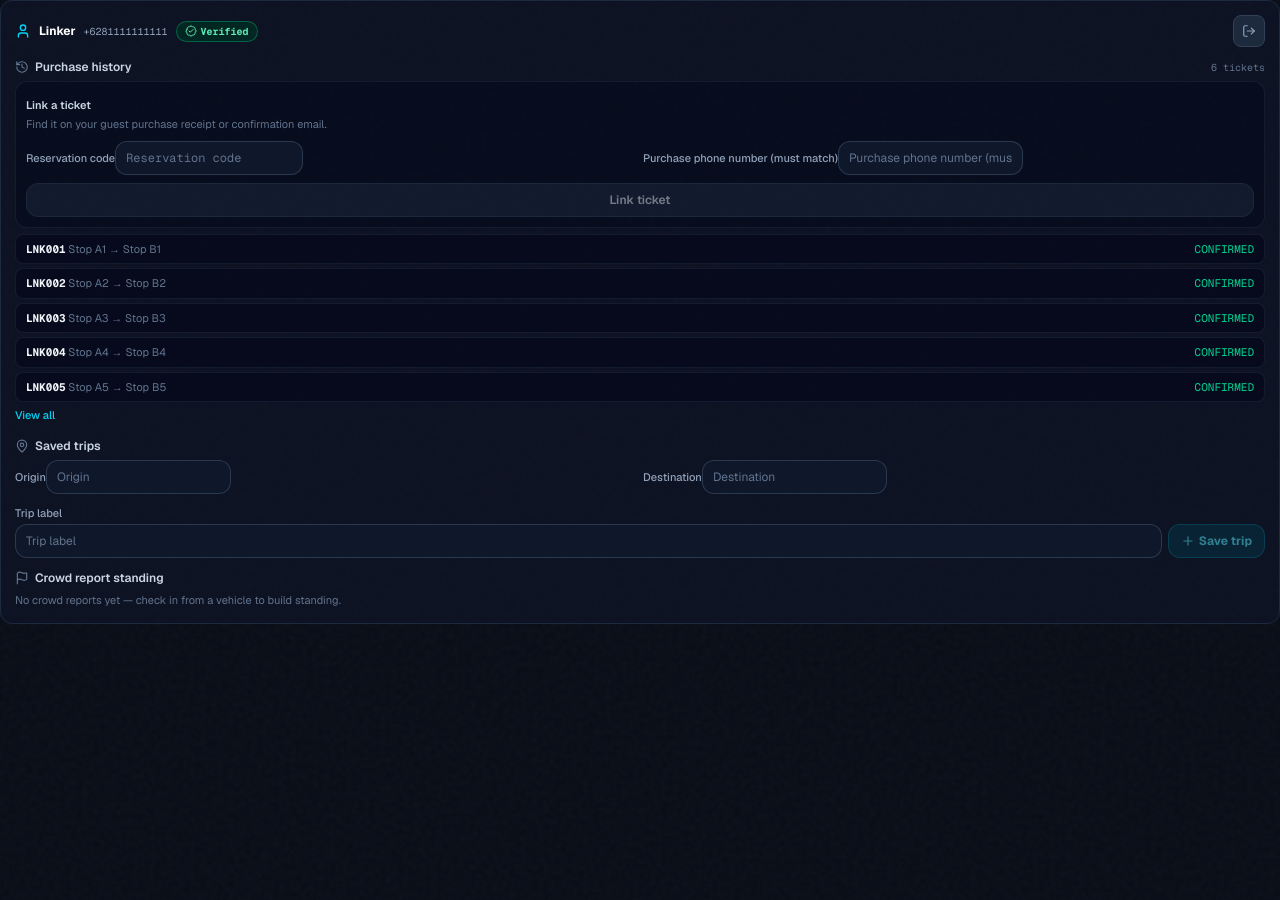
link a ticket › explains an unknown code without leaking
Type "NOPE01" into the field labelled "Reservation code" at (209, 158), box x1=115 y1=140 x2=303 y2=174
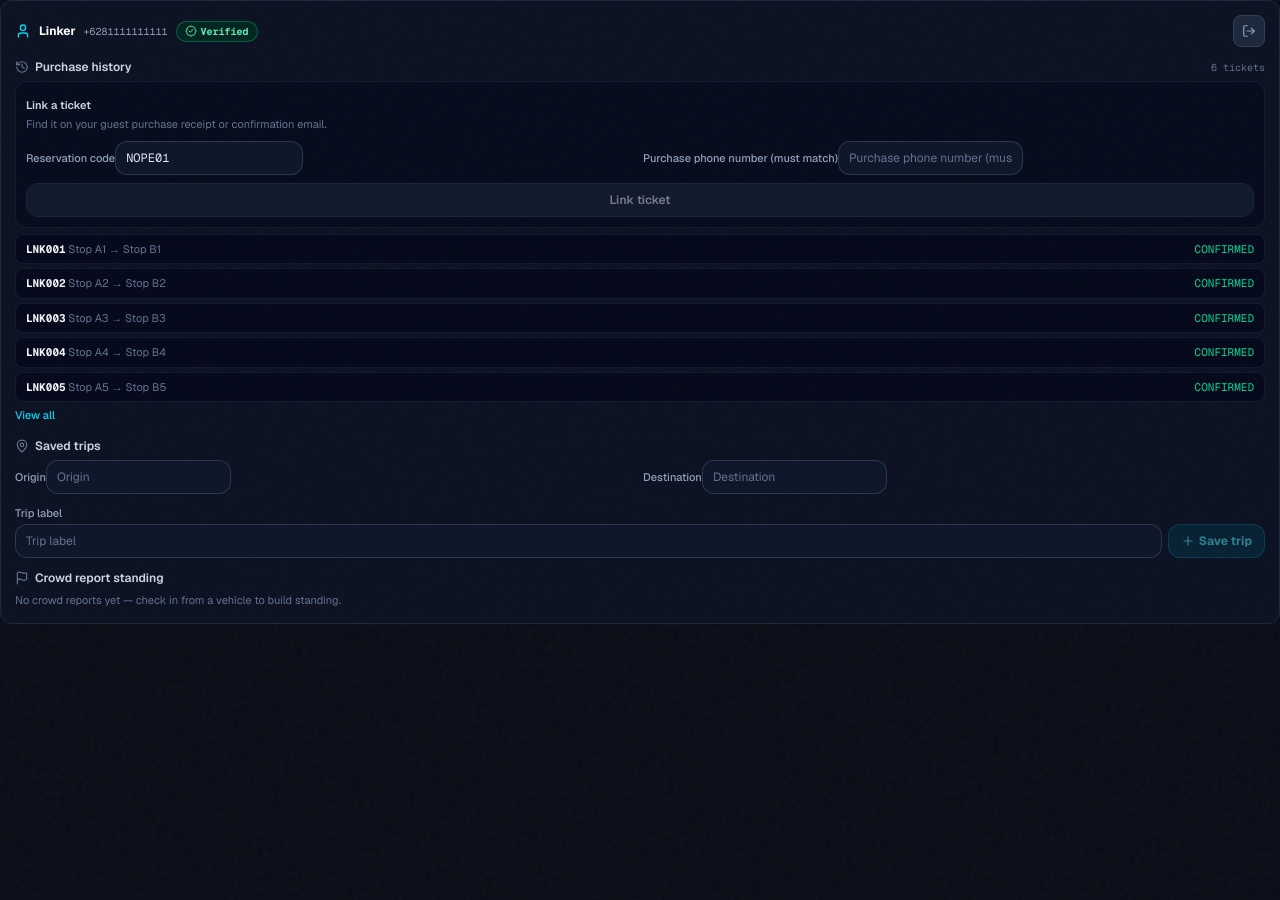
Type "+628100000000" into the field labelled "Purchase phone number (must match)" at (930, 158), box x1=838 y1=140 x2=1023 y2=174
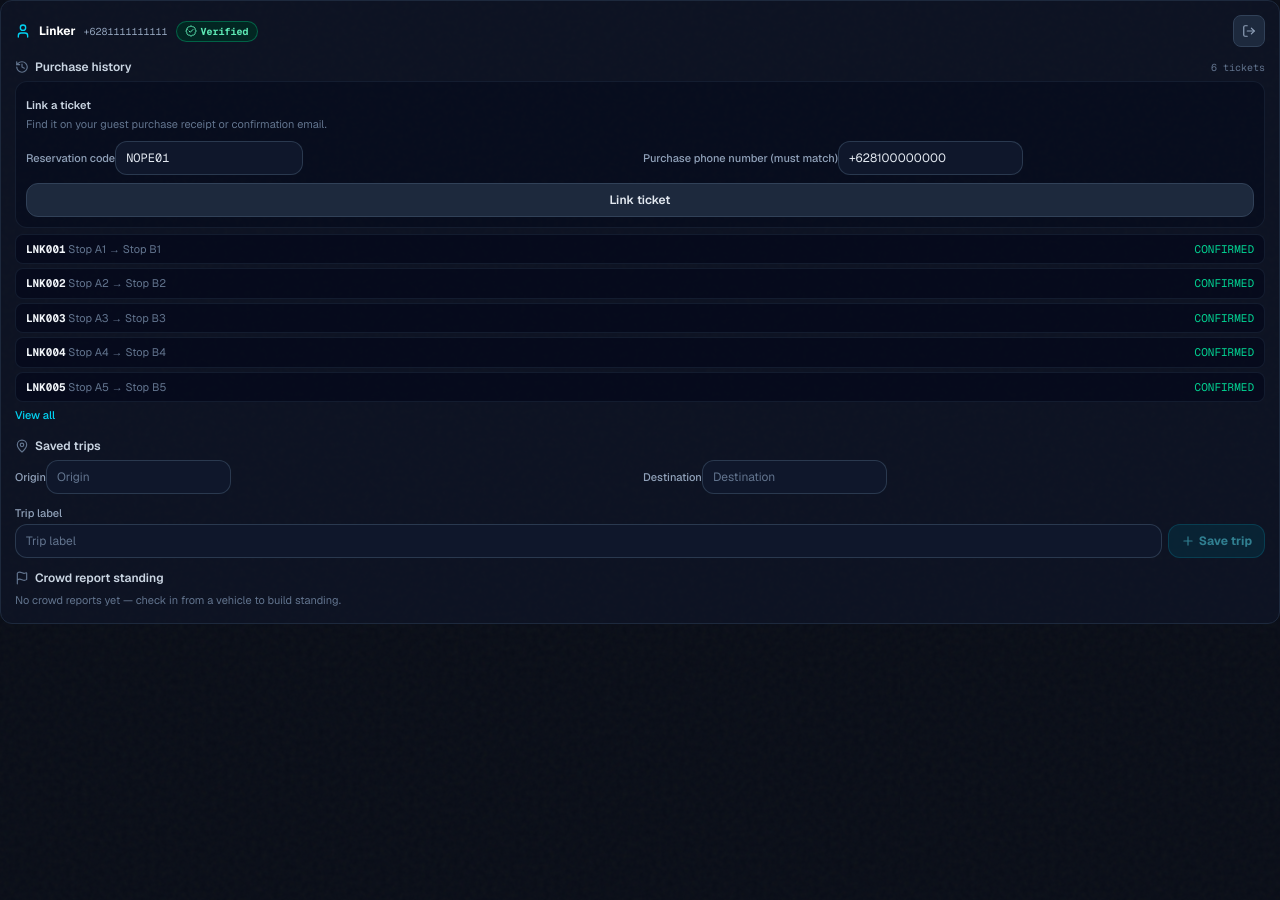
Click the button "Link ticket" at (640, 200), box x1=26 y1=182 x2=1254 y2=216
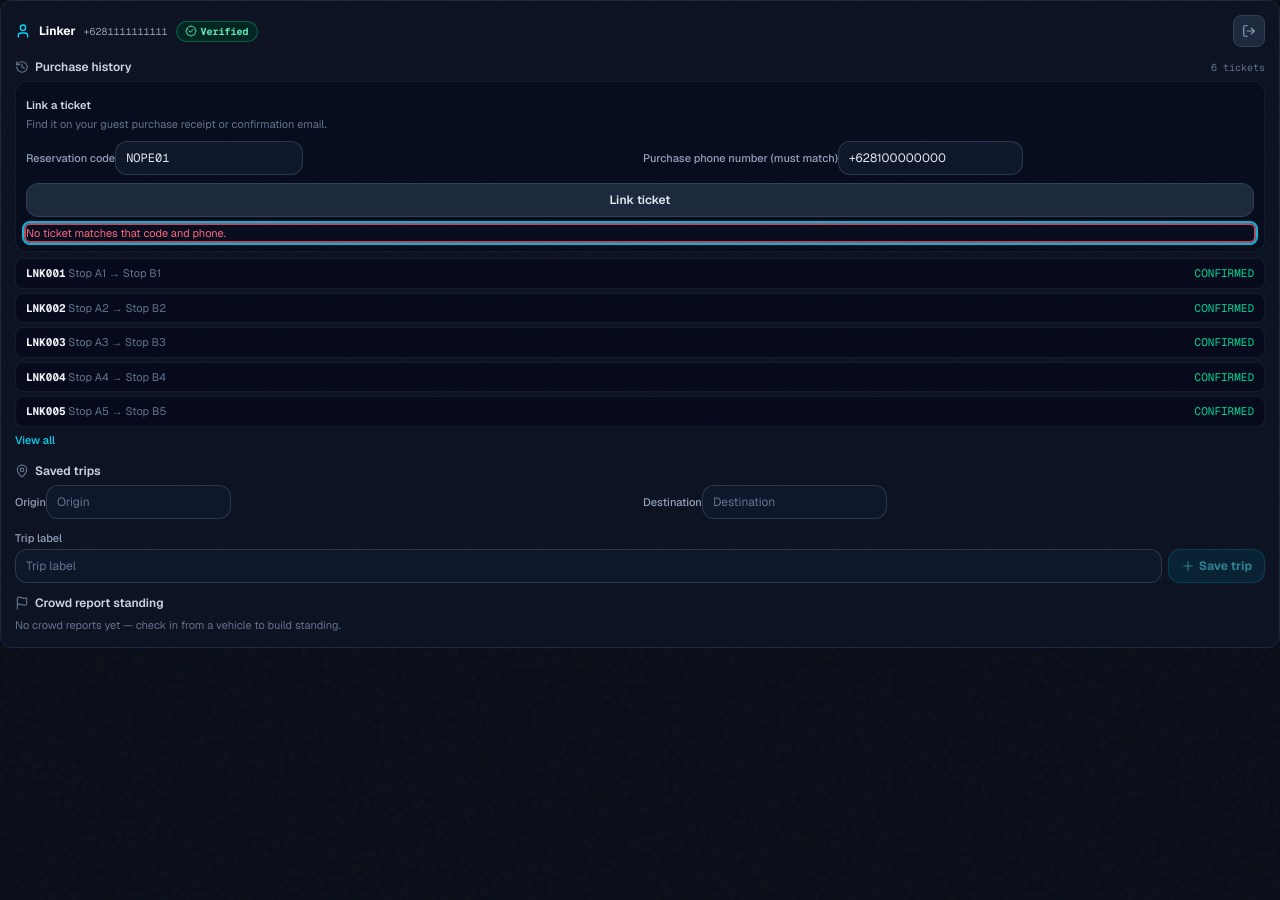
Result: the text "No ticket matches that code and phone." is shown at x1=26 y1=224 x2=1254 y2=241
